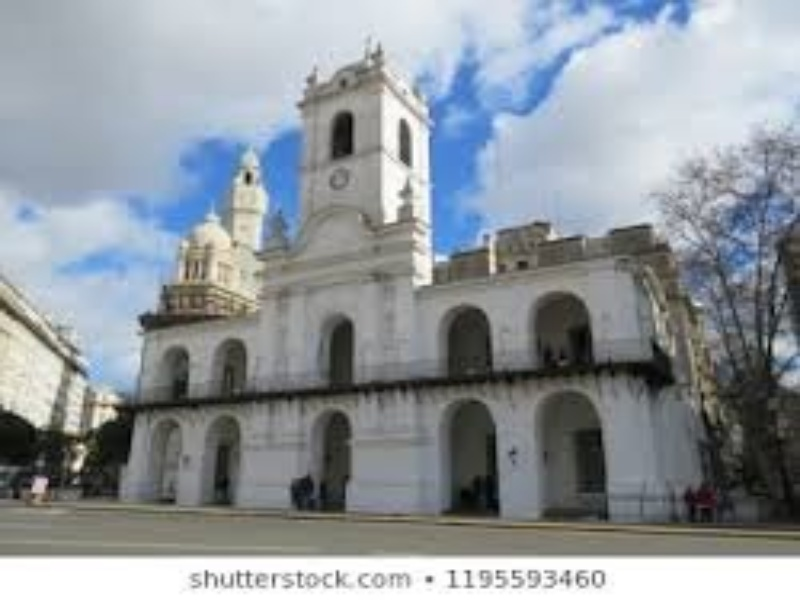cabildo: (110, 31, 677, 534)
